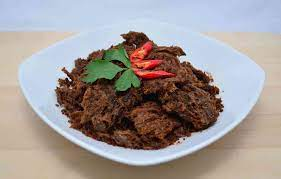rendang: (45, 27, 241, 166)
